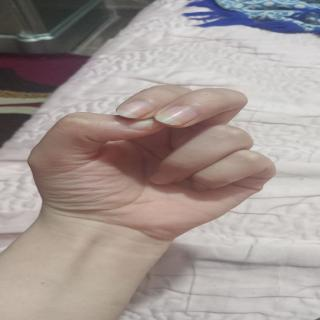QAAF: (6, 82, 300, 231)
